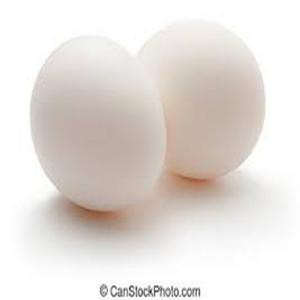Egg: (25, 30, 169, 215), (134, 17, 268, 183)
